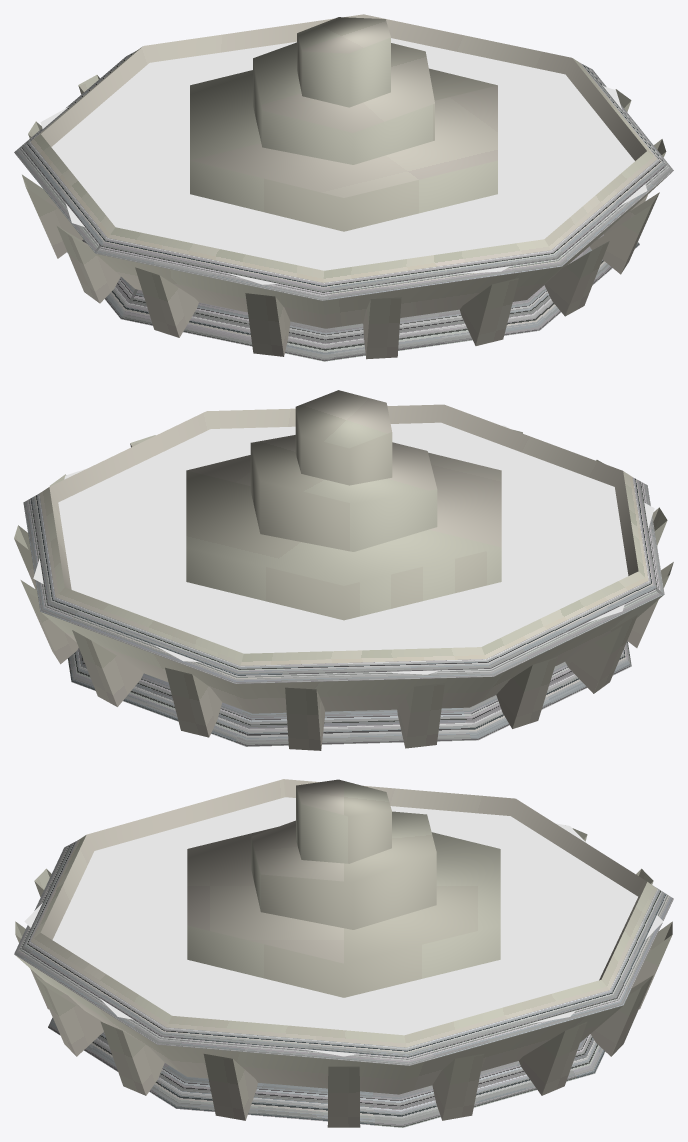
File: thm_corl_fountain_circle_s01_l2.fbx
3 renders of one model, top to bottom at view 1: azimuth 30°, elevation 25°; view 2: azimuth 150°, elevation 25°; view 3: azimuth 270°, elevation 25°, orthographic. The views are drawn at different scales.
Parts seen in each view (by area): view 1: mesh_node; view 2: mesh_node; view 3: mesh_node.
Boxes of the visible parts, box(x1,y1,x2,y2) form: mesh_node: box(14, 14, 673, 361); mesh_node: box(14, 390, 673, 750); mesh_node: box(14, 779, 673, 1127).
Size of the model in its own units: 7.85 by 2.85 by 7.85.
2 materials, 1 textured.
